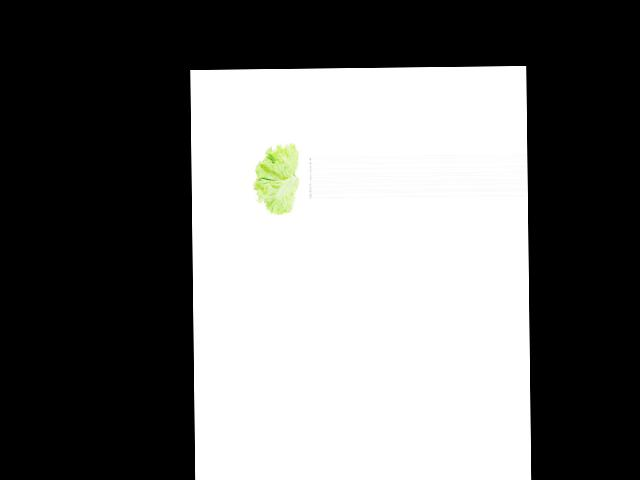lettuce: (252, 142, 308, 216)
